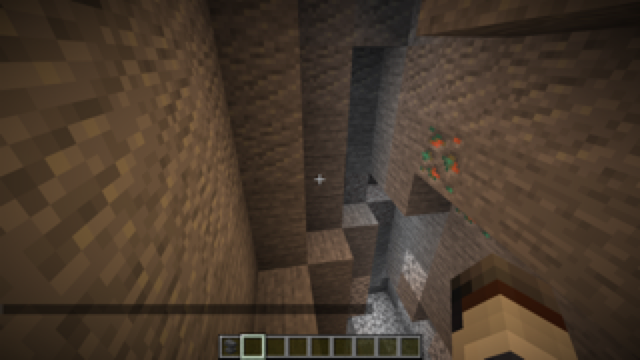copper: (416, 123, 463, 196), (451, 203, 489, 240)
